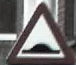Speed Breaker ahead: (6, 2, 68, 60)
